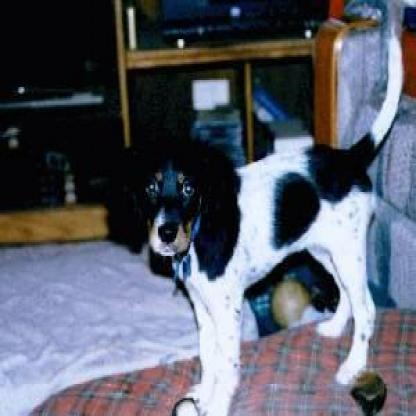English_setter: (110, 21, 400, 411)
